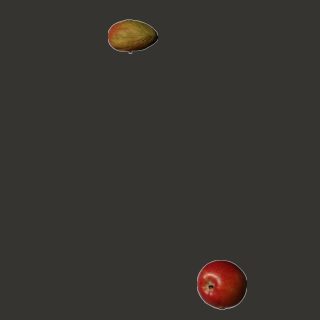Apple Braeburn: (196, 259, 246, 309)
Papaya: (107, 11, 157, 61)
